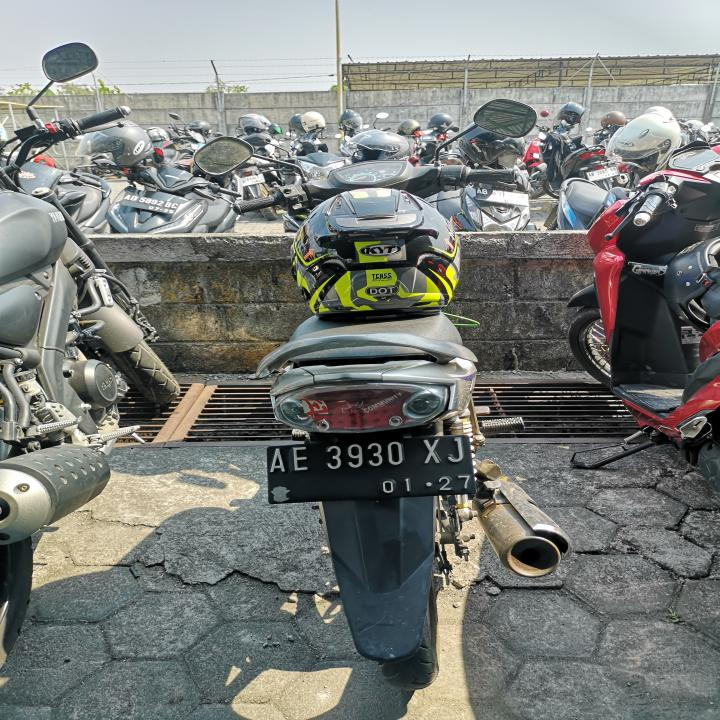plate: (264, 432, 479, 505), (120, 193, 180, 217)
